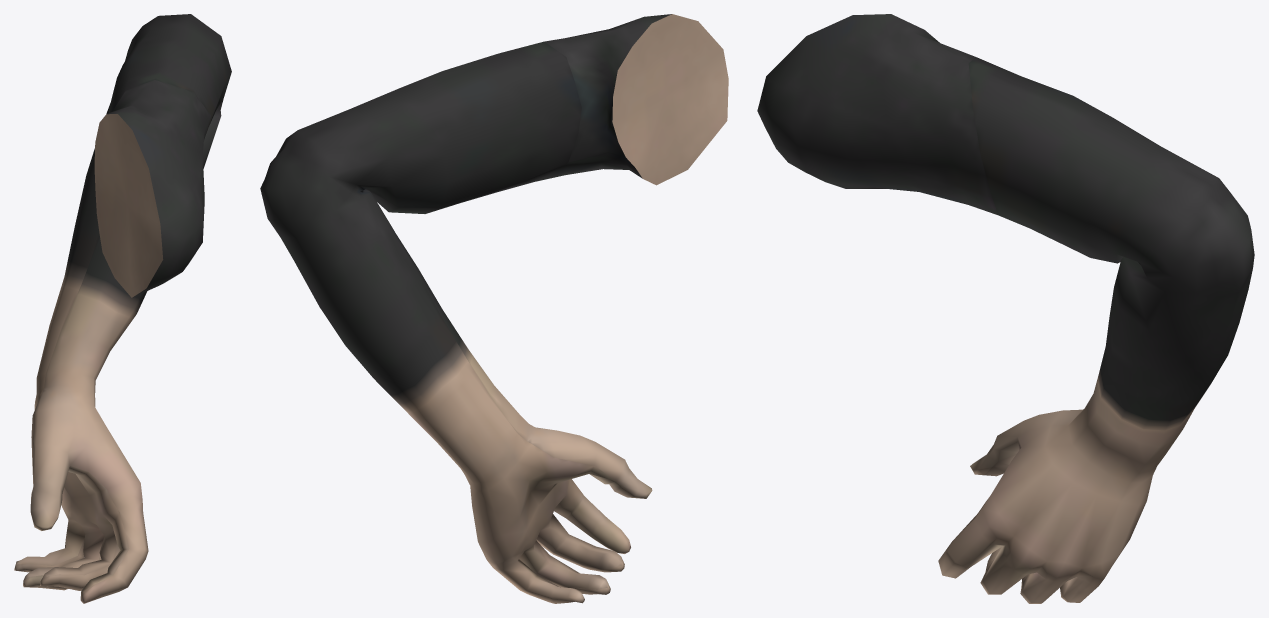
File: dest_nt_nuked_female_02_arm_left_LOD0.obj
3 renders of one model, left to right at view 1: azimuth 30°, elevation 25°; view 2: azimuth 150°, elevation 25°; view 3: azimuth 270°, elevation 25°, orthographic. The views are drawn at different scales.
Visible parts, largest first — view 1: mtl_nt_2020_manne_fem01_head1; view 2: mtl_nt_2020_manne_fem01_head1; view 3: mtl_nt_2020_manne_fem01_head1.
Part boxes in pixels (x1,y1,x2,y2): mtl_nt_2020_manne_fem01_head1: (14, 14, 231, 603); mtl_nt_2020_manne_fem01_head1: (260, 14, 728, 603); mtl_nt_2020_manne_fem01_head1: (757, 14, 1254, 603).
Size of the model in its own units: 22.16 by 39.48 by 31.09.
